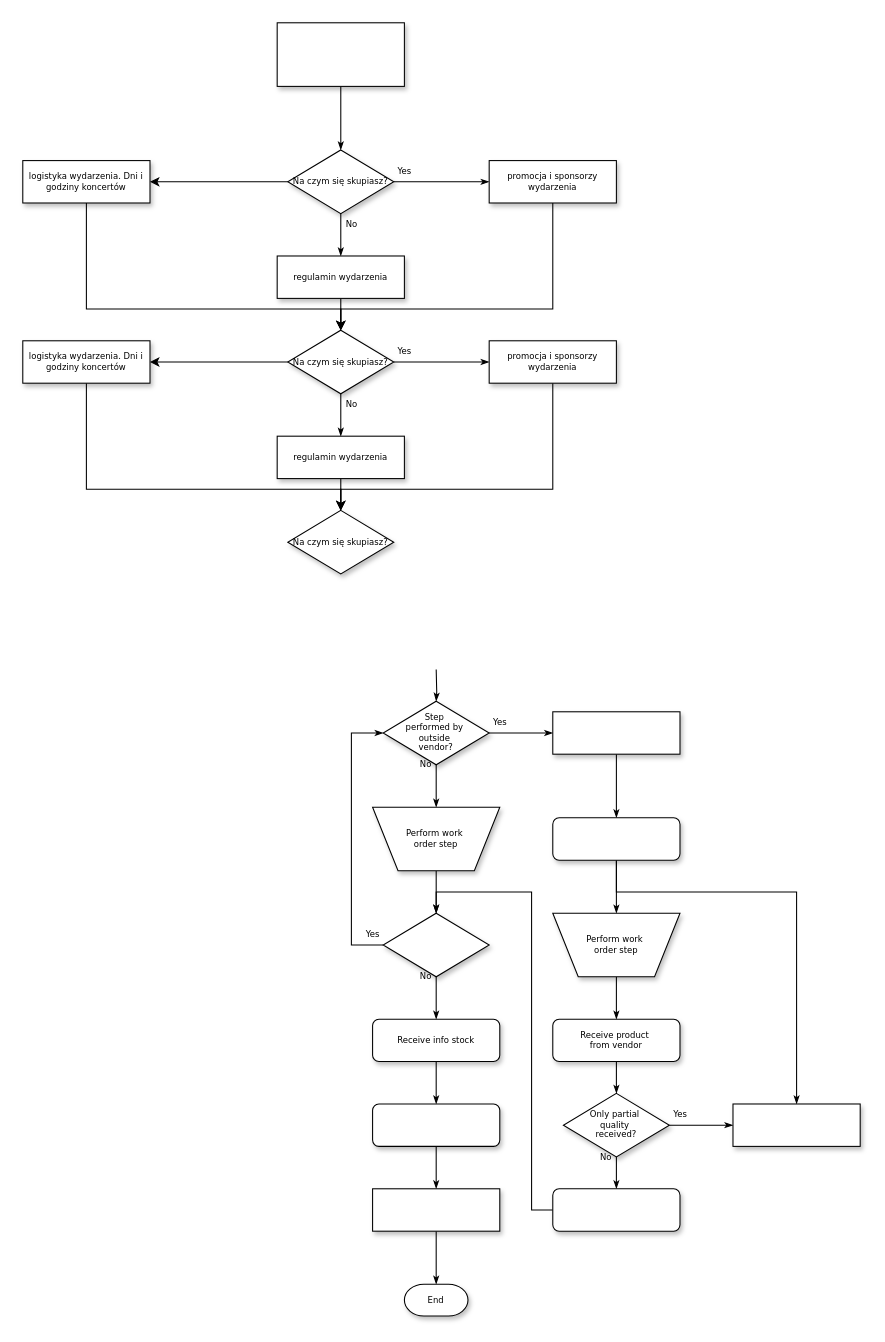
The diagram is 885 pixels wide and 1342 high, and some of its shapes have lost their labels. The shapes that lost their labels are listed below. From the top down, each one's centre as x and y in pixels, then its label:
At pixel 341 55: "Jesteś członkiem komitetu organizującego Juwenalia 2020/2021.".
At pixel 616 734: "Add or adjust vendor costs".
At pixel 616 840: "Ship materials to vendor".
At pixel 437 946: "Additional processing required?".
At pixel 436 1126: "Ship product on order if needed".
At pixel 797 1126: "Create work order backorder".
At pixel 436 1211: "Change status to Complete".
At pixel 616 1211: "Pay vendor invoice".
